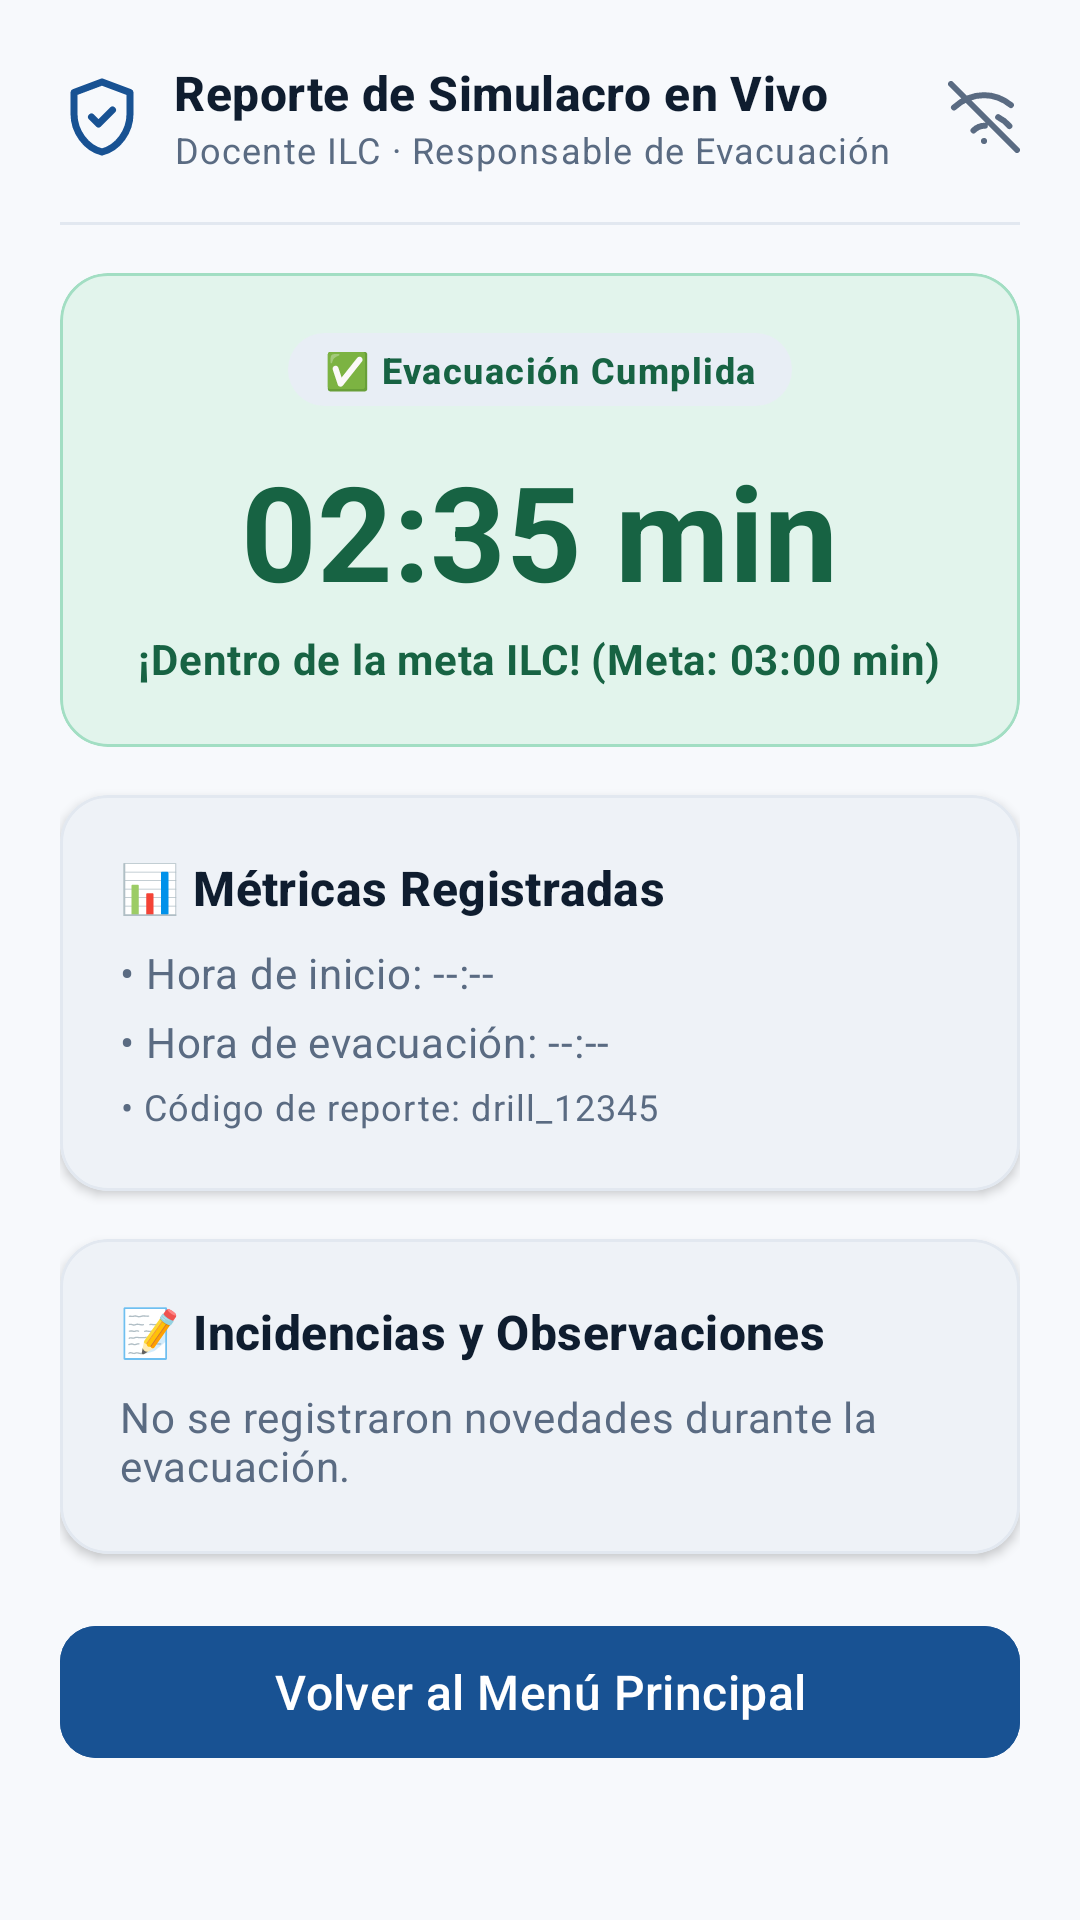

Screen size 1080×1920. Icon name, then its box in pixels as (x1, y1, x2, y2):
Entrenamiento sin internet: (948, 81, 1020, 153)
shield: (70, 78, 134, 156)
